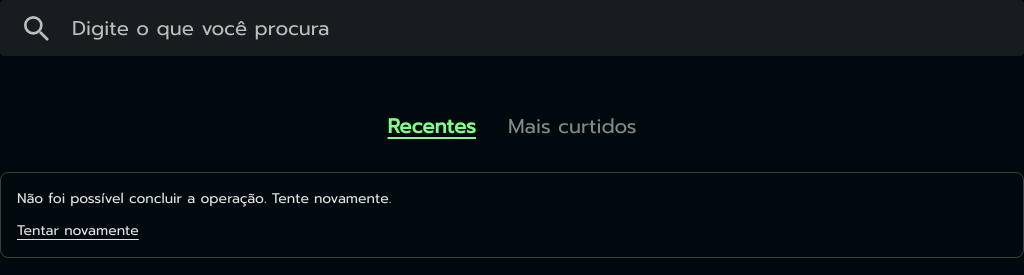
Scenario: offers retry for connection failures and shows empty results
Expected: the message "Não foi possível concluir a operação. Tente novamente. Tentar novamente" is shown, [0,172,1023,258]
Click the button "Tentar novamente": {"x": 78, "y": 231} [17,221,139,241]
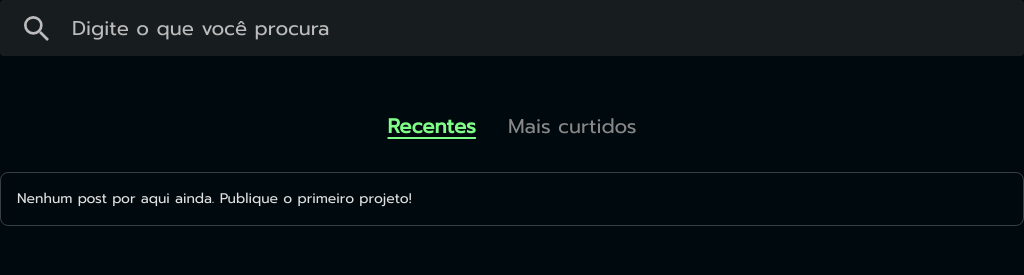
Now the message shows "Nenhum post", box [17,188,412,209]
